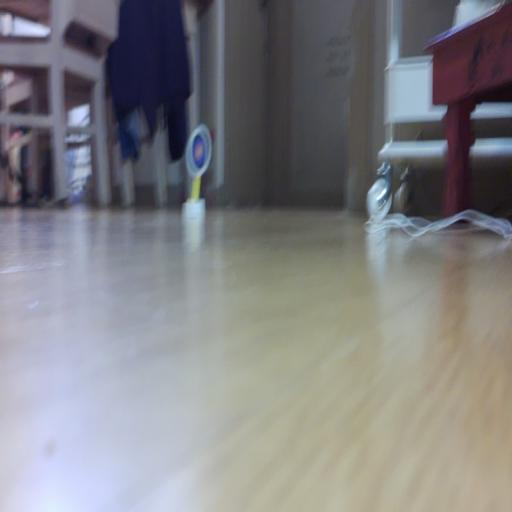target: (185, 124, 212, 179)
